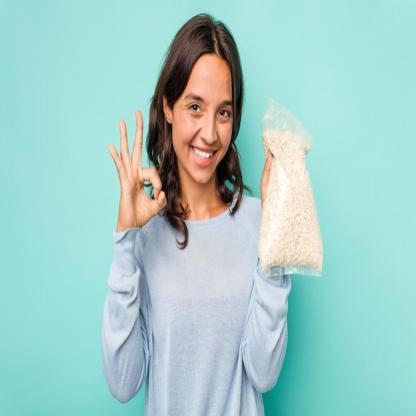ok: (106, 106, 169, 232)
